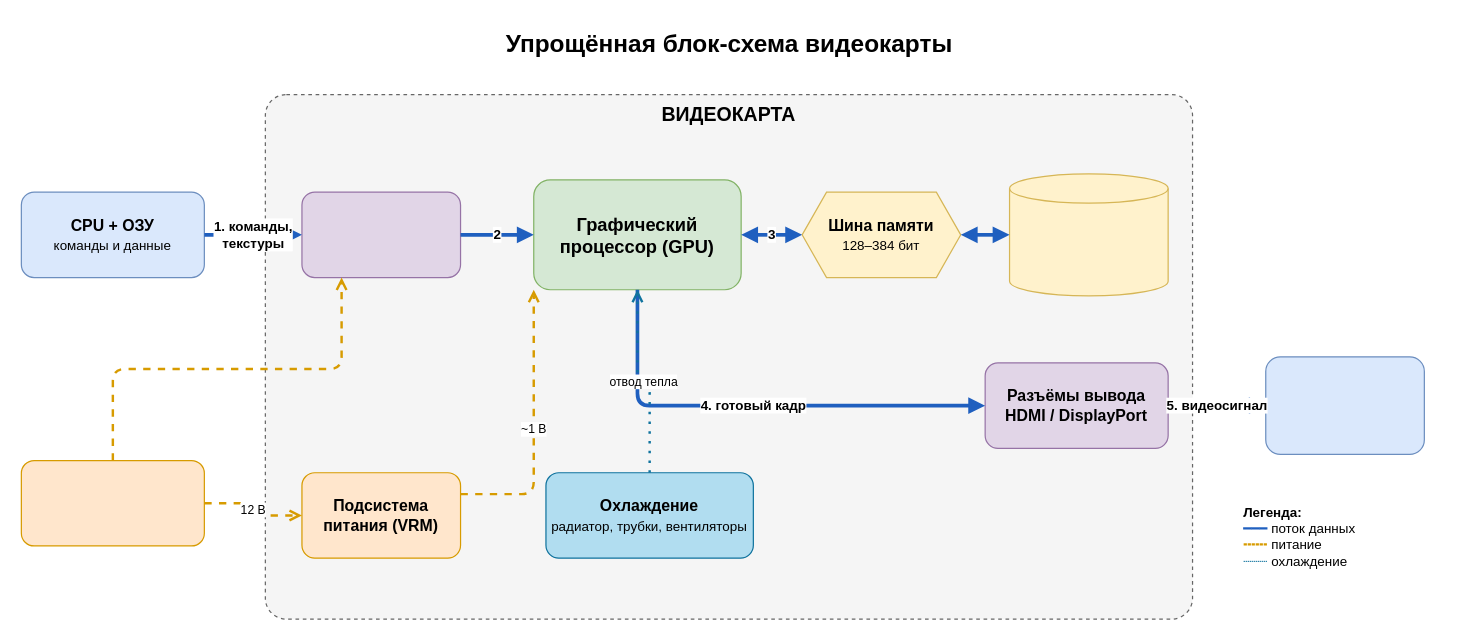
Some shapes in this 1458 by 641 pixel diagram are drawn without their labels. The shapes that lost their labels are listed below. From the top down, each one's centre as x and y in pixels, then its label:
the point at 381,234: Интерфейс PCI-E x16
the point at 1088,234: Видеопамять VRAM (GDDR6)
the point at 1344,405: Монитор
the point at 112,502: Блок питания 12 В
